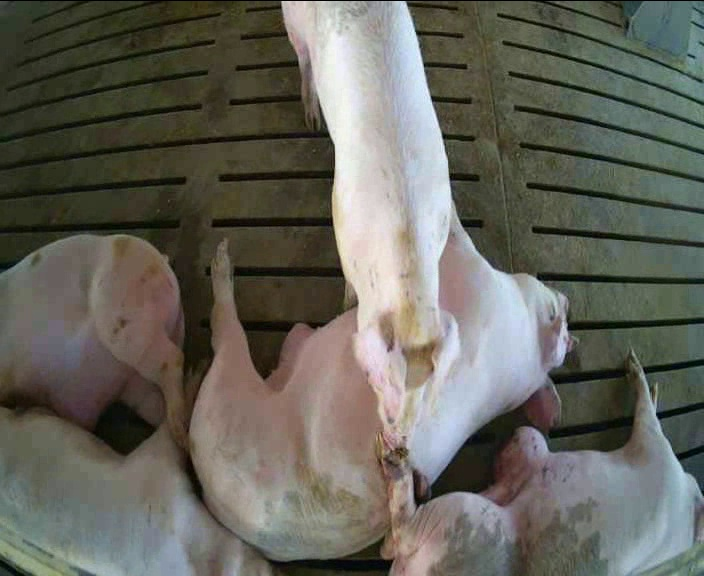pig: (378, 353, 703, 574)
